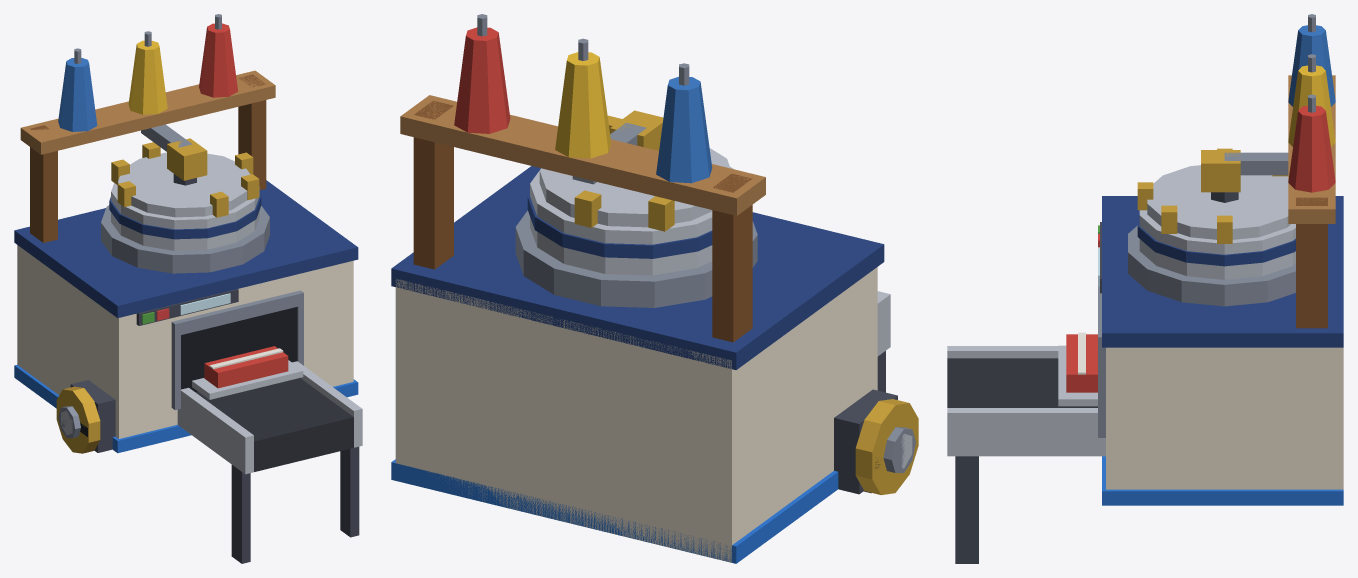
Rendered from knitter-left.glb.
3 views of the same model, side by side, from view 1: azimuth 30°, elevation 25°; view 2: azimuth 150°, elevation 25°; view 3: azimuth 270°, elevation 25° (orthographic). The views are drawn at different scales.
Parts seen in each view (by area): view 1: knitter-left, spin-up, spin-x; view 2: knitter-left, spin-up, spin-x; view 3: knitter-left, spin-up.
Part boxes in pixels (<box>): knitter-left: <box>14,14,362,563</box>; spin-up: <box>109,142,261,250</box>; spin-x: <box>56,386,100,453</box>; knitter-left: <box>391,14,912,563</box>; spin-up: <box>527,115,733,275</box>; spin-x: <box>855,399,918,495</box>; knitter-left: <box>947,14,1343,563</box>; spin-up: <box>1137,148,1295,279</box>.
Bounding box in the file's own units: 0.93 × 1.32 × 1.
Materials: 3 (3 with a texture image).
